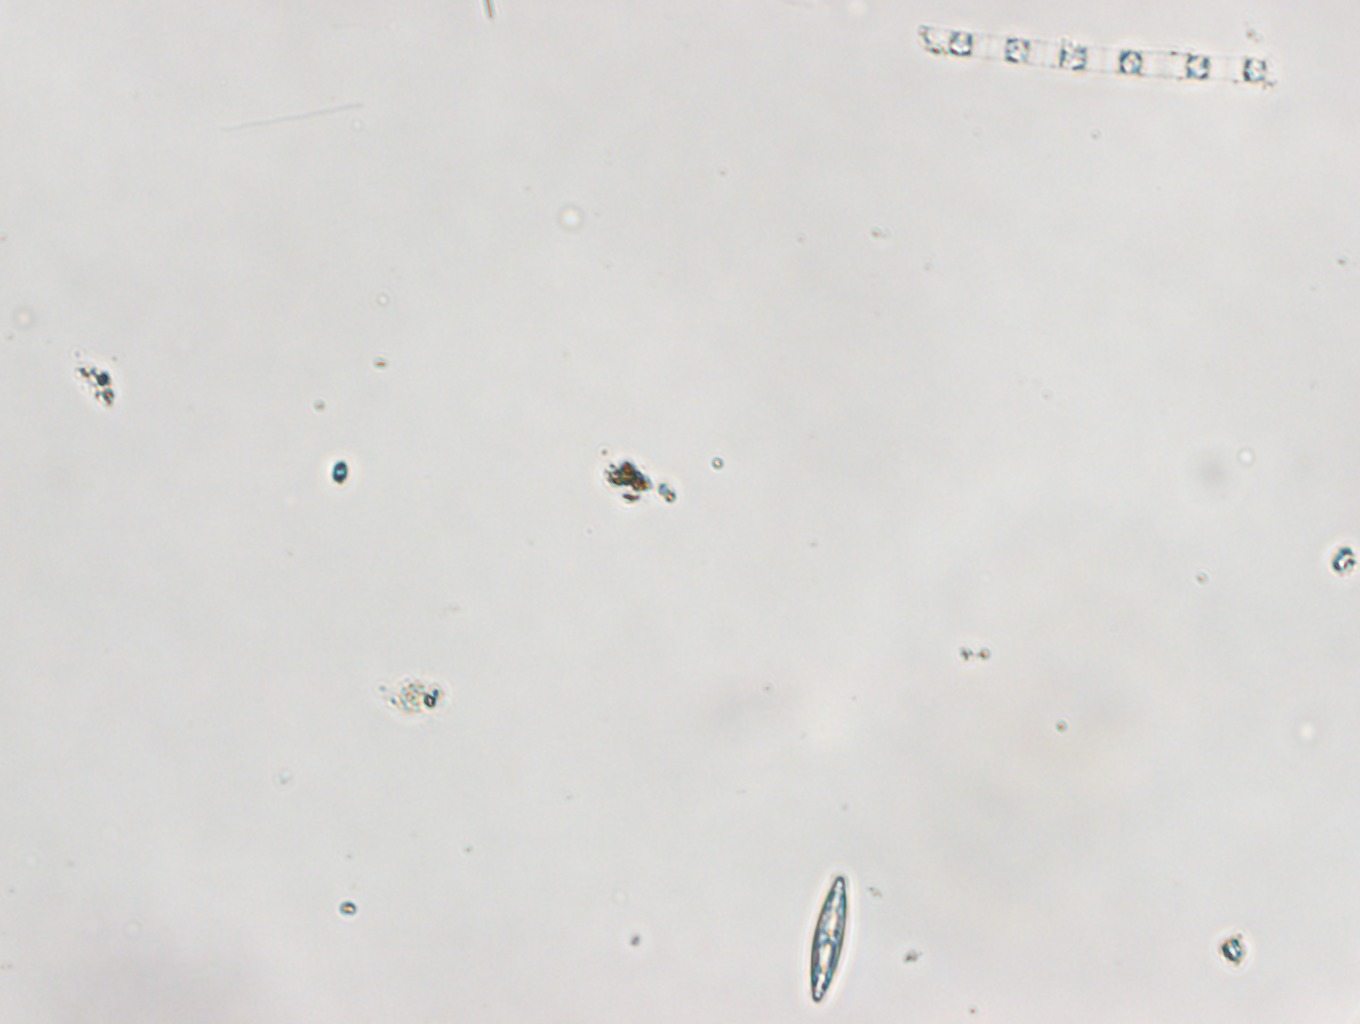navicula: (808, 869, 849, 1006)
skeletonema: (913, 24, 1271, 89)
